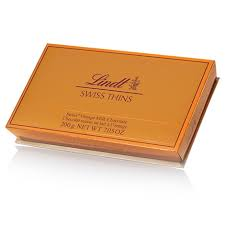Chocolate: (7, 36, 222, 181)
